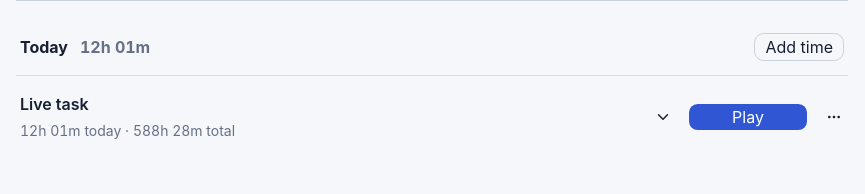
DailyHistory › keeps a running interval inspectable without correction actions
The image size is (865, 194).
Click the button "Live task 12h 01m today · 588h 28m total": (54, 104) [16, 76, 676, 157]
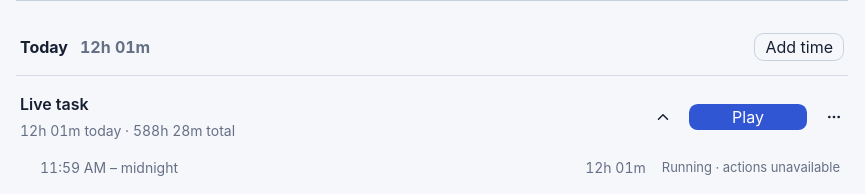
expect the text "Running · actions unavailable" is shown: met, box [662, 158, 840, 177]
